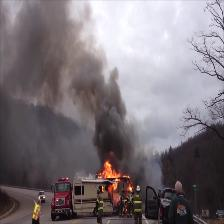fire: (99, 162, 121, 179)
smoke: (78, 40, 129, 159), (21, 0, 76, 95)
